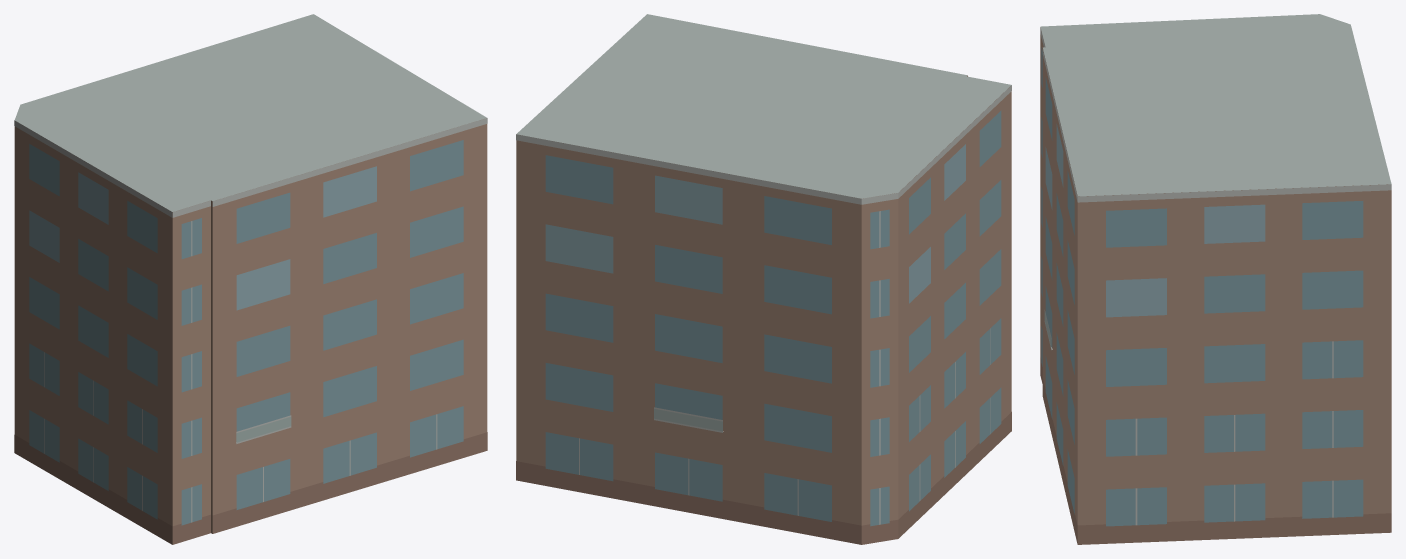
Rendered from survey-upis-32659745.glb.
The picture shows the model from 3 angles, left to right: view 1: azimuth 30°, elevation 25°; view 2: azimuth 150°, elevation 25°; view 3: azimuth 270°, elevation 25°; orthographic projection. The views are drawn at different scales.
Visible parts, largest first — view 1: survey-upis-32659745.tmp; view 2: survey-upis-32659745.tmp; view 3: survey-upis-32659745.tmp.
Part boxes in pixels (<box>): survey-upis-32659745.tmp: <box>14,14,487,544</box>; survey-upis-32659745.tmp: <box>516,14,1011,544</box>; survey-upis-32659745.tmp: <box>1040,14,1391,544</box>.
Size of the model in its own units: 15.68 by 13.95 by 12.76.
